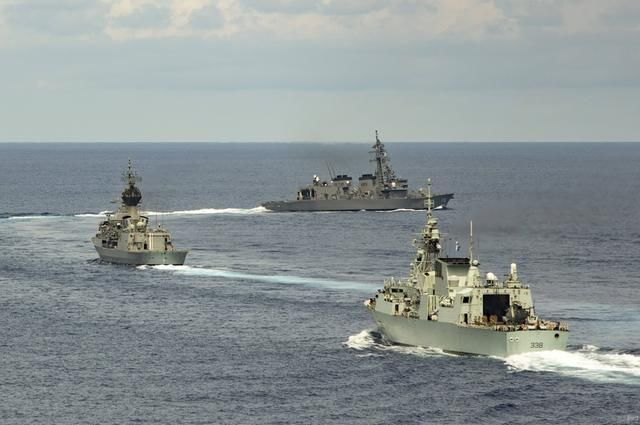warship: (356, 212, 571, 361), (260, 130, 455, 214), (92, 158, 192, 268)
